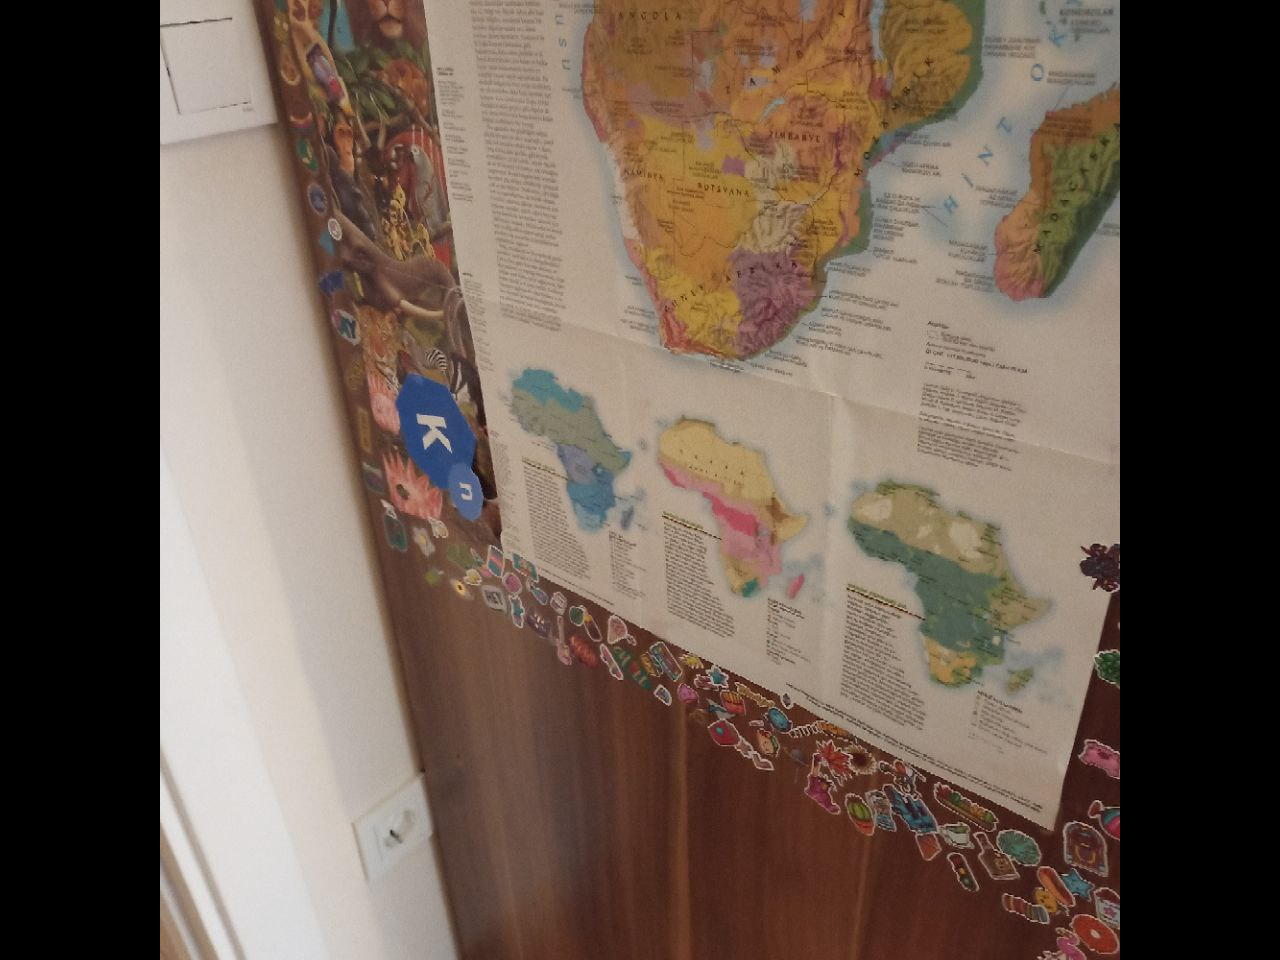knative: (399, 377, 486, 521)
